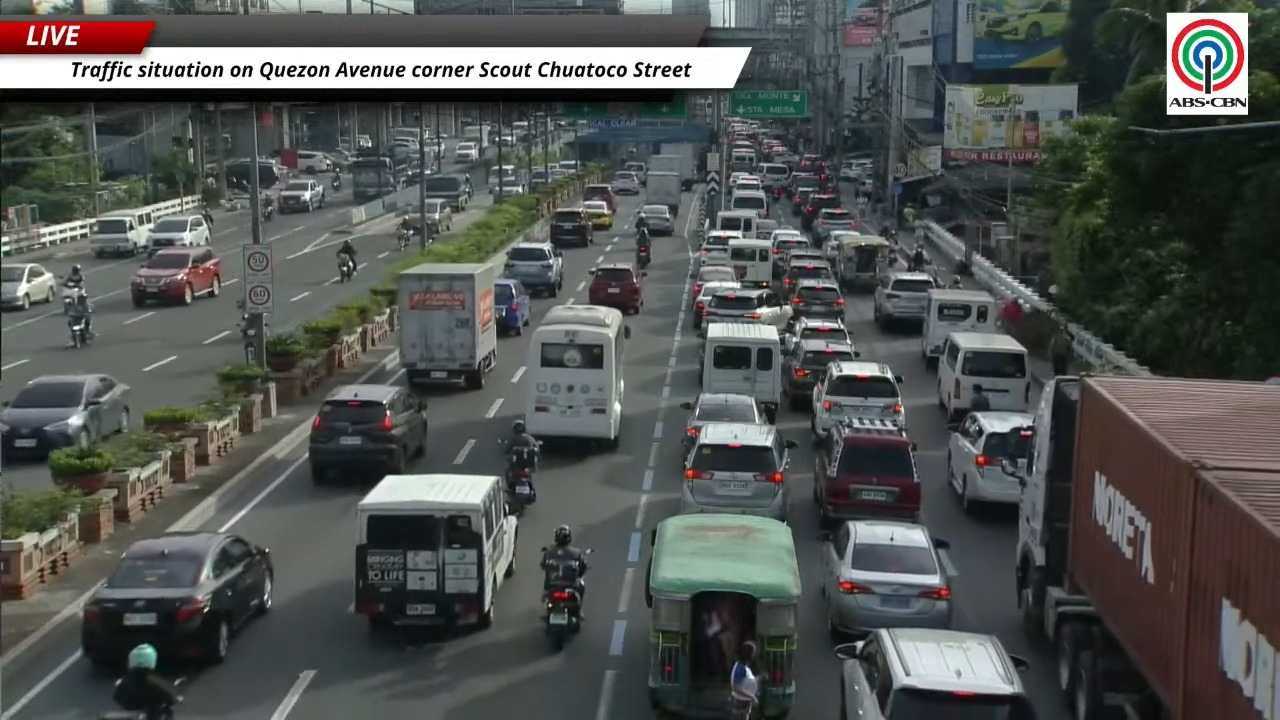bus: (525, 305, 629, 448)
car: (80, 532, 273, 666), (835, 628, 1036, 719), (822, 519, 951, 639), (813, 416, 920, 528), (308, 384, 428, 483), (681, 422, 795, 521), (0, 375, 130, 457), (947, 412, 1033, 510), (811, 361, 904, 436), (782, 333, 859, 408), (130, 247, 221, 306), (681, 393, 767, 455), (982, 0, 1067, 44), (701, 288, 790, 329), (873, 272, 935, 327), (503, 241, 562, 296), (588, 262, 646, 313), (0, 263, 56, 309), (691, 279, 741, 329), (782, 253, 835, 300), (782, 316, 852, 351), (149, 215, 210, 251), (789, 279, 844, 317), (494, 278, 530, 334), (771, 229, 811, 278), (549, 208, 593, 247), (691, 265, 737, 300), (813, 208, 856, 245), (278, 180, 324, 213), (801, 192, 840, 230), (699, 231, 741, 265), (821, 229, 861, 263), (418, 197, 452, 233), (637, 204, 674, 236), (582, 184, 617, 213), (787, 172, 819, 201), (582, 200, 613, 229), (297, 150, 332, 174), (791, 187, 819, 215), (786, 245, 825, 265), (610, 170, 641, 195), (623, 161, 646, 185), (756, 214, 779, 238), (733, 175, 763, 193), (454, 141, 479, 162), (529, 168, 551, 190), (798, 154, 821, 174), (727, 172, 753, 189), (550, 167, 572, 180), (1264, 376, 1279, 384)
motorcycle: (504, 443, 539, 516), (545, 585, 581, 651), (98, 706, 174, 719), (68, 313, 91, 348), (236, 299, 255, 339), (62, 285, 84, 314), (338, 253, 355, 282), (636, 245, 651, 269), (397, 228, 411, 250), (261, 204, 275, 221), (331, 172, 340, 190)
truck: (1001, 376, 1279, 719), (397, 263, 497, 389), (348, 146, 418, 202), (648, 143, 698, 191), (644, 169, 682, 216), (462, 125, 490, 152)
